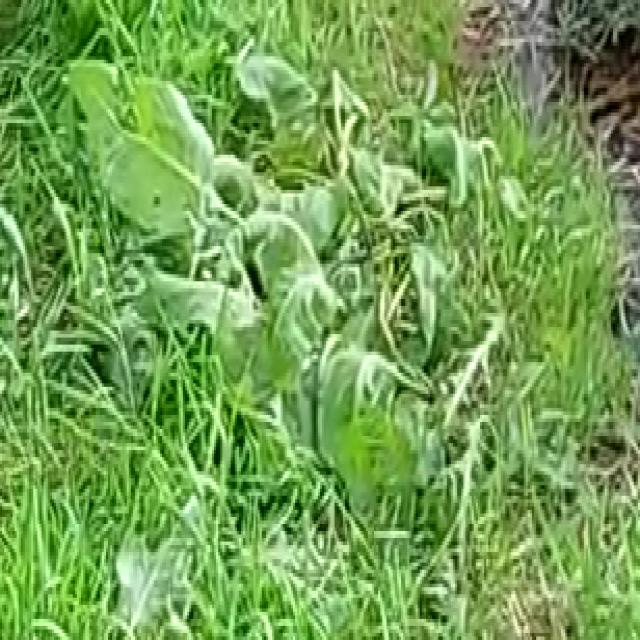organic waste: (49, 0, 355, 383), (224, 67, 445, 531), (85, 489, 208, 640)
